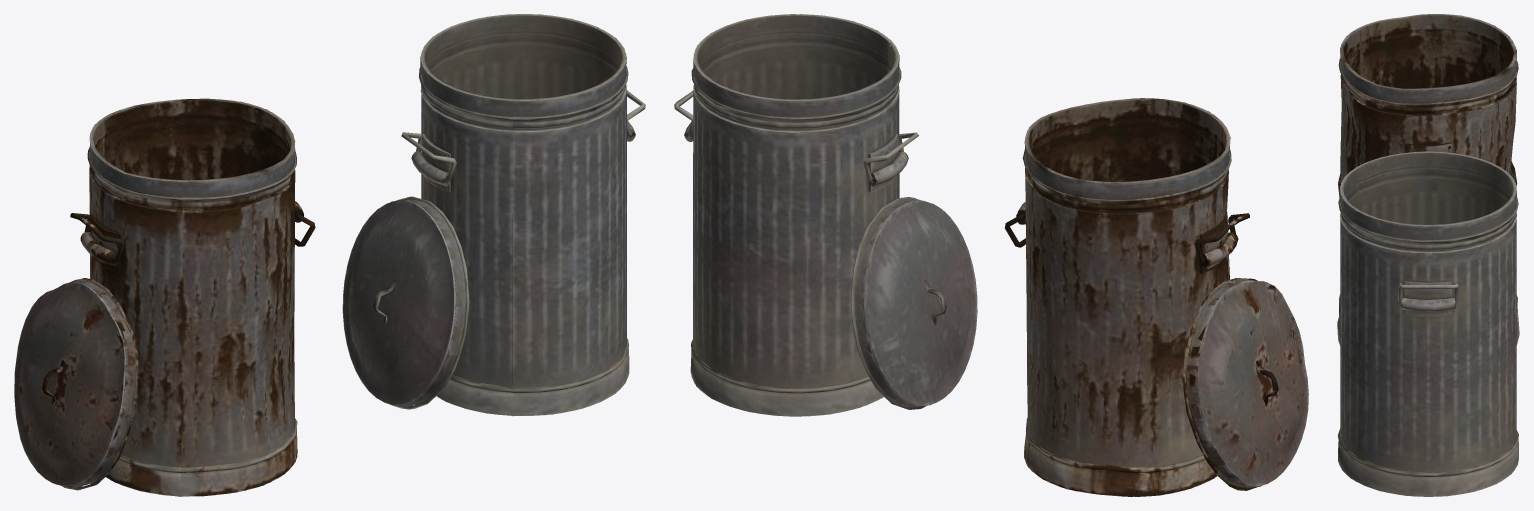
Rendered from ph_metal_trash_can.glb.
3 views of the same model, side by side, from view 1: azimuth 30°, elevation 25°; view 2: azimuth 150°, elevation 25°; view 3: azimuth 270°, elevation 25° (orthographic). The views are drawn at different scales.
Parts seen in each view (by area): view 1: metal_trash_can_handle_left; view 2: metal_trash_can_handle_left; view 3: metal_trash_can_handle_left.
Boxes of the visible parts, bbox=[...] form: metal_trash_can_handle_left: bbox=[14, 14, 645, 496]; metal_trash_can_handle_left: bbox=[674, 14, 1308, 496]; metal_trash_can_handle_left: bbox=[1337, 14, 1519, 496].
Size of the model in its own units: 1.78 by 0.9063 by 0.5557.
3 materials, 3 textured.
